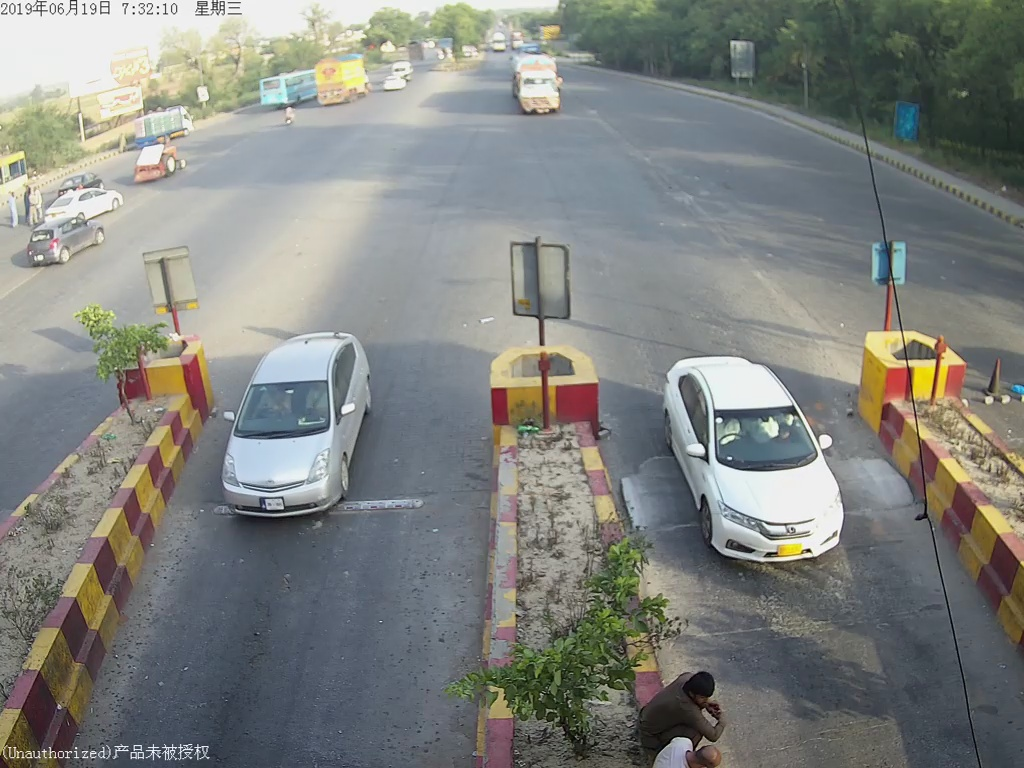Cat-1: (659, 357, 854, 559), (215, 329, 378, 525)
